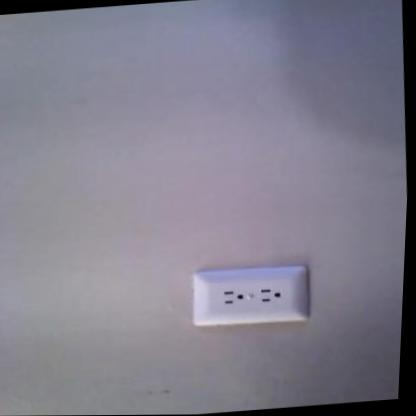OUTLET: (189, 263, 312, 328)
